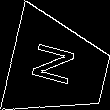N_E: (32, 42, 86, 93)
